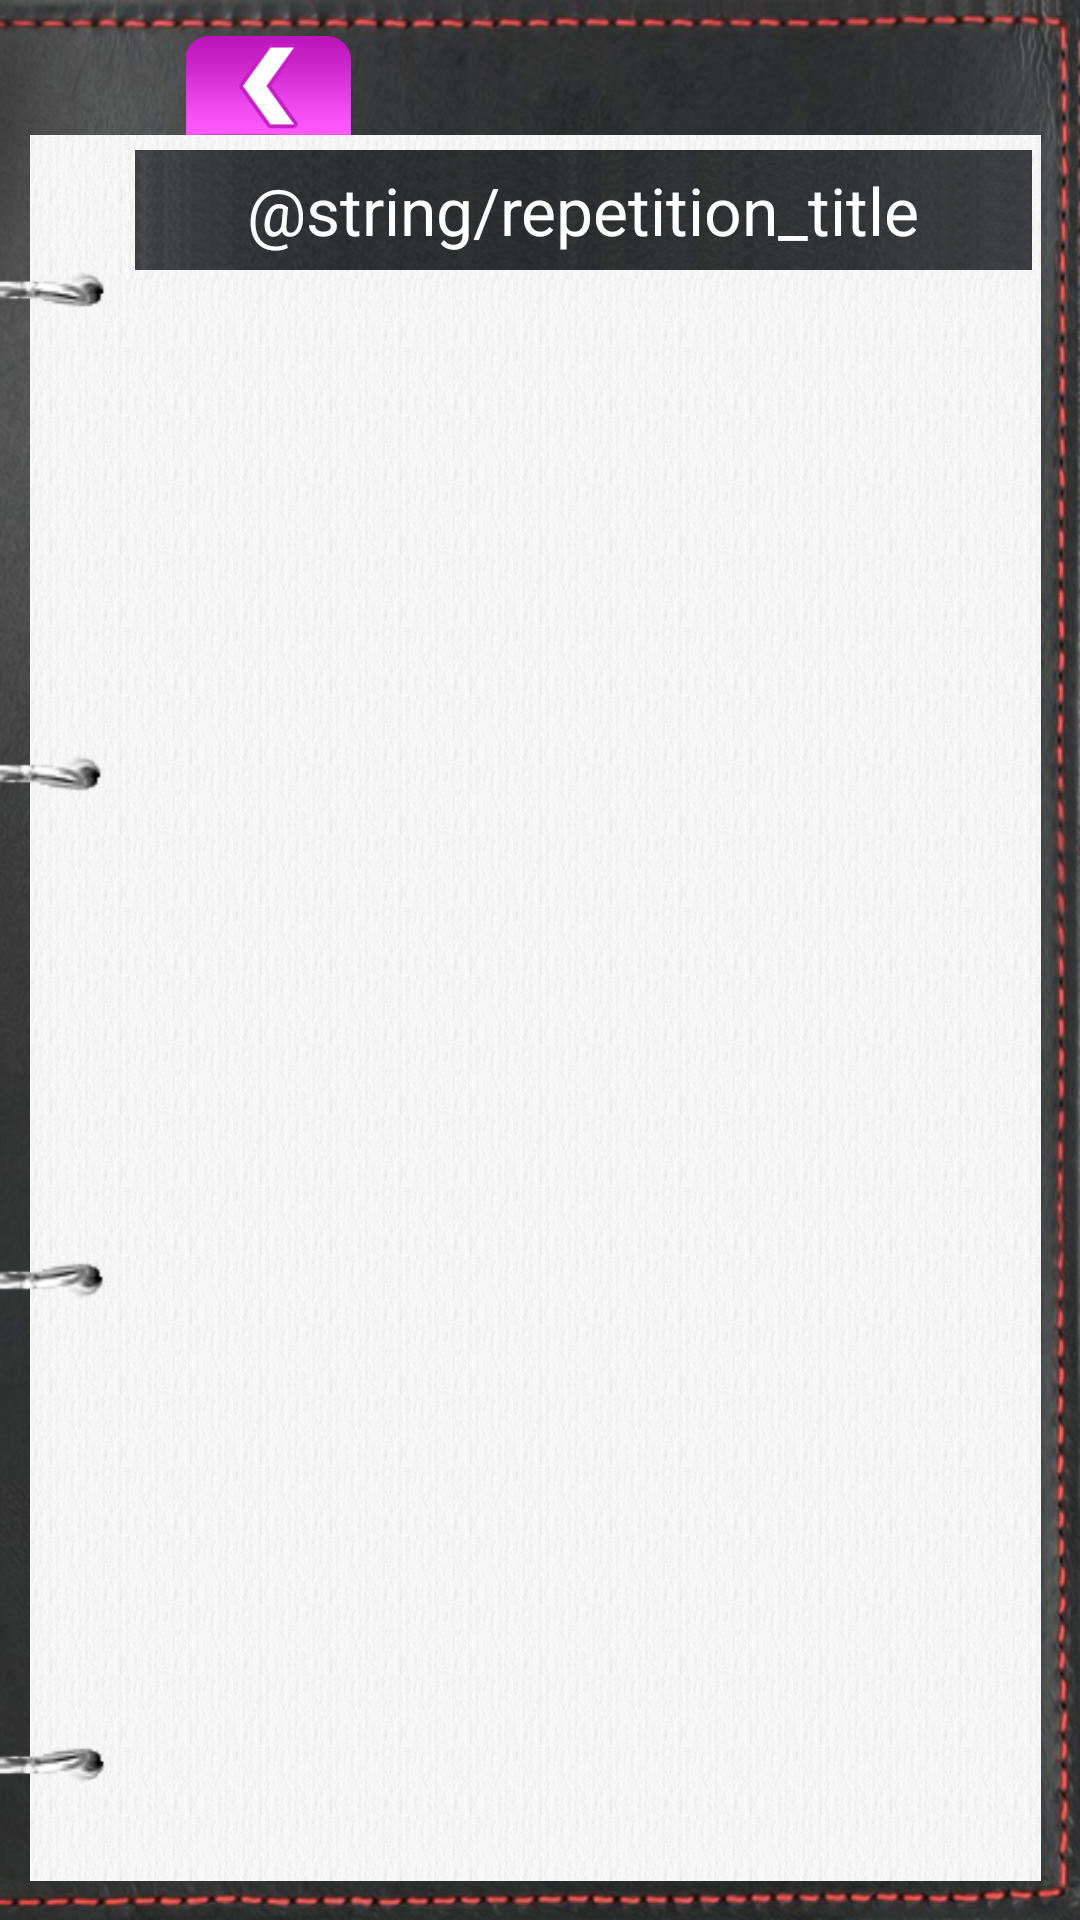

Point at icon controls on the screen. Image size 1080 x 1920, points as [x,y].
left: [268,85]
